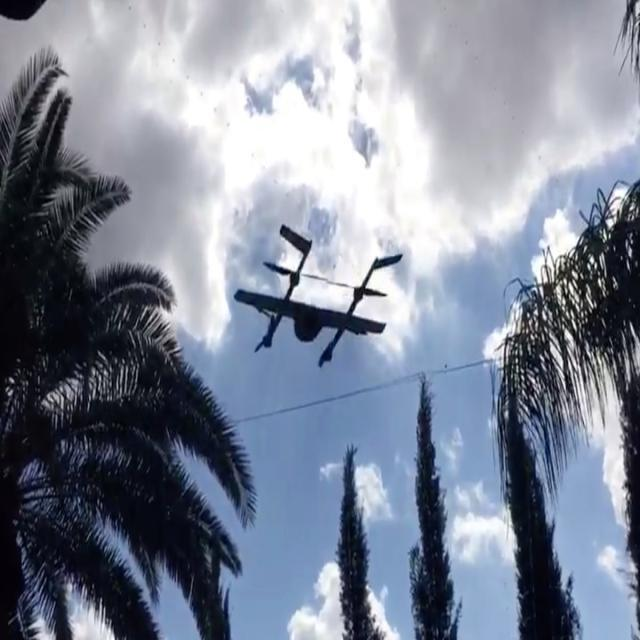iha: (225, 214, 399, 379)
